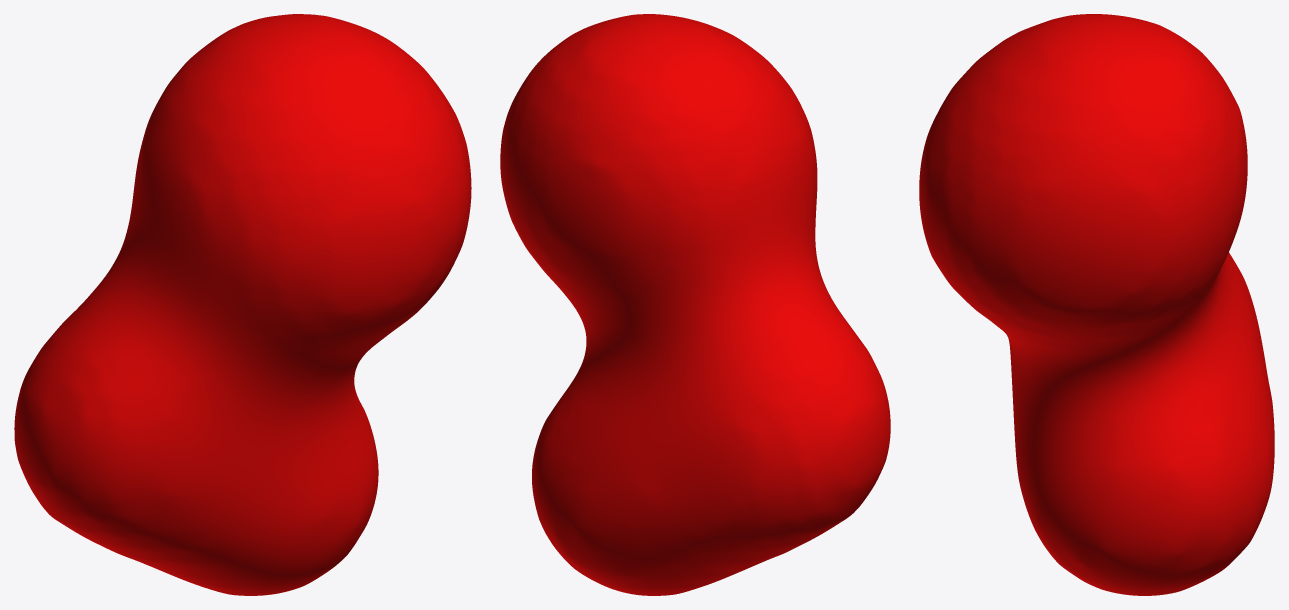
File: blob.glb
3 renders of one model, left to right at view 1: azimuth 30°, elevation 25°; view 2: azimuth 150°, elevation 25°; view 3: azimuth 270°, elevation 25°, orthographic. The views are drawn at different scales.
Visible parts, largest first — view 1: Mball.005; view 2: Mball.005; view 3: Mball.005.
Boxes of the visible parts, left/top/right/bottom form: Mball.005: left=14, top=14, right=471, bottom=595; Mball.005: left=500, top=14, right=890, bottom=595; Mball.005: left=919, top=14, right=1274, bottom=595.
Size of the model in its own units: 3.83 by 5.23 by 2.98.
